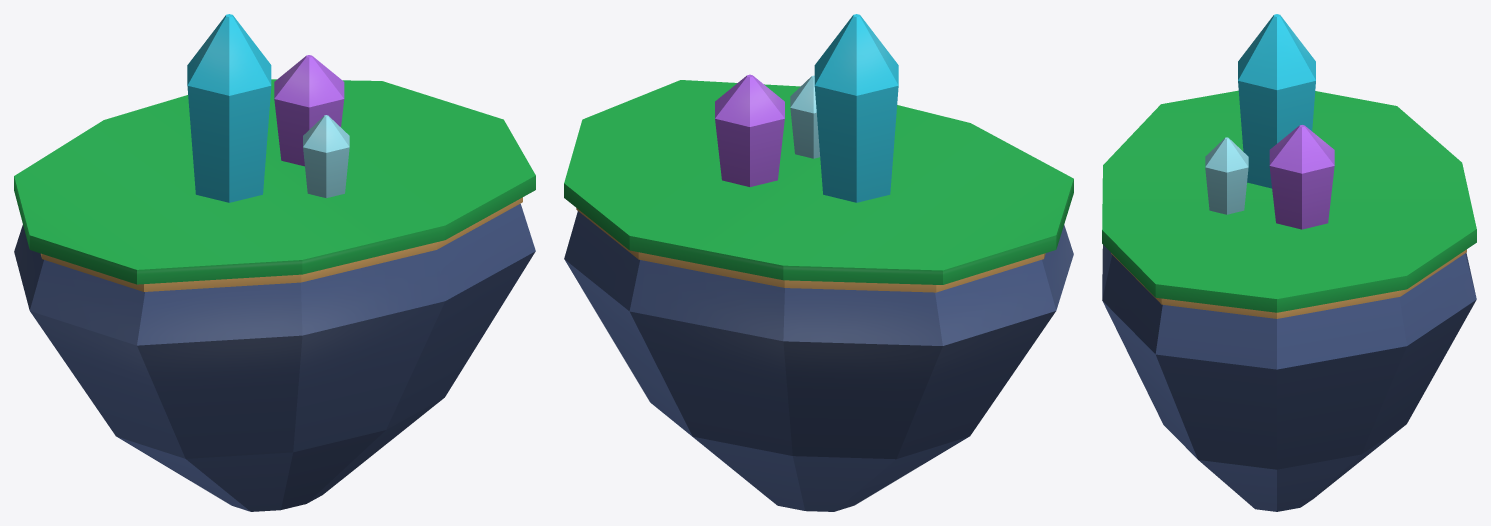
File: FloatingIsletB.fbx
3 views of the same model, side by side, from view 1: azimuth 30°, elevation 25°; view 2: azimuth 150°, elevation 25°; view 3: azimuth 270°, elevation 25° (orthographic). The views are drawn at different scales.
Visible parts, largest first — view 1: FloatingIsletB; view 2: FloatingIsletB; view 3: FloatingIsletB.
Part boxes in pixels (x1,y1,x2,y2): FloatingIsletB: [14, 14, 535, 511]; FloatingIsletB: [564, 14, 1073, 511]; FloatingIsletB: [1102, 14, 1476, 511].
Size of the model in its own units: 20.32 by 20.1 by 14.95.
Materials: 1 (1 with a texture image).
